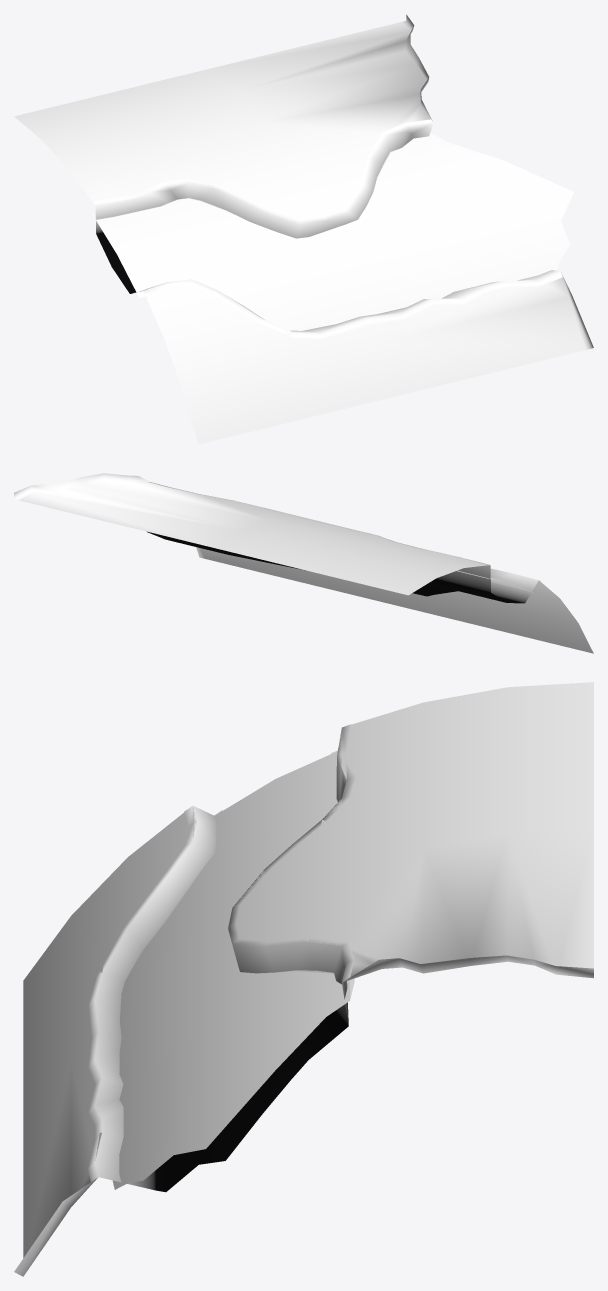
Rendered from grd_Rw_F_1.dae.
The picture shows the model from 3 angles, top to bottom: view 1: azimuth 30°, elevation 25°; view 2: azimuth 150°, elevation 25°; view 3: azimuth 270°, elevation 25°; orthographic projection. The views are drawn at different scales.
Parts seen in each view (by area): view 1: grd_Rw_F_1; view 2: grd_Rw_F_1; view 3: grd_Rw_F_1.
Part boxes in pixels (x1,y1,x2,y2): grd_Rw_F_1: (14,14,593,444); grd_Rw_F_1: (14,473,593,653); grd_Rw_F_1: (14,682,593,1276).
Size of the model in its own units: 576 by 252 by 430.
4 materials, 1 textured.
